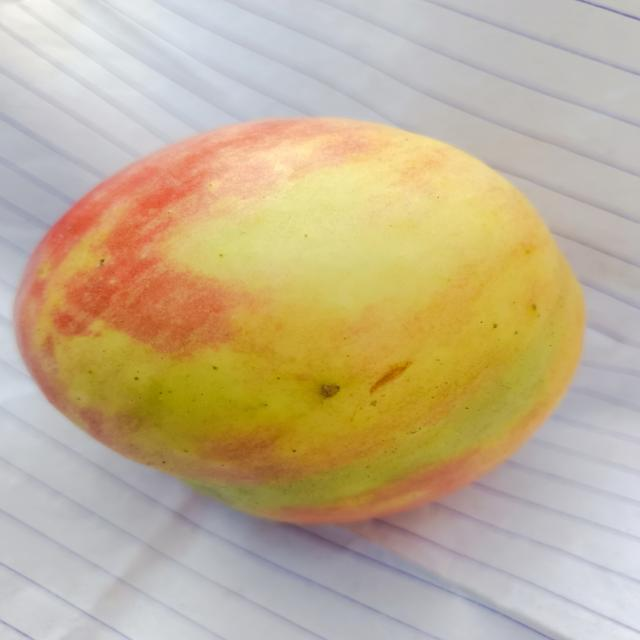Fresh Apple: (23, 118, 577, 557)
